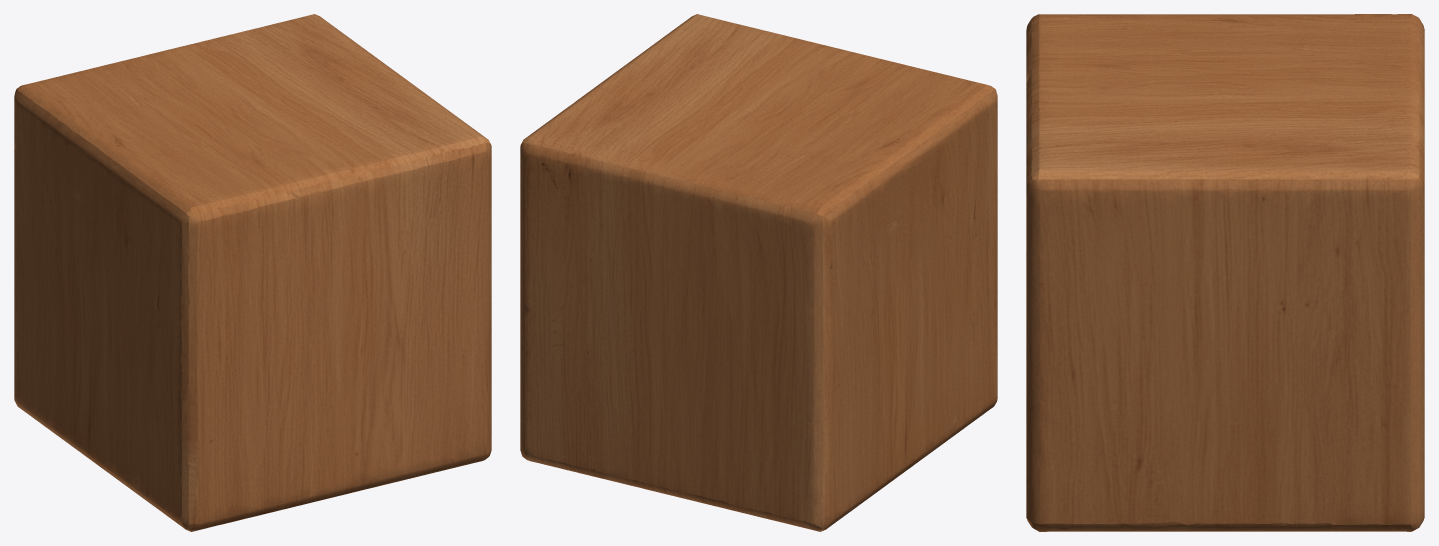
File: original.glb
3 renders of one model, left to right at view 1: azimuth 30°, elevation 25°; view 2: azimuth 150°, elevation 25°; view 3: azimuth 270°, elevation 25°, orthographic. The views are drawn at different scales.
Parts seen in each view (by area): view 1: world; view 2: world; view 3: world.
Part boxes in pixels (<box>): world: <box>14,14,491,531</box>; world: <box>520,14,997,531</box>; world: <box>1026,14,1424,531</box>.
Size of the model in its own units: 0.15 by 0.15 by 0.15.
1 material, 1 textured.
